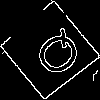Q: (24, 25, 87, 87)
